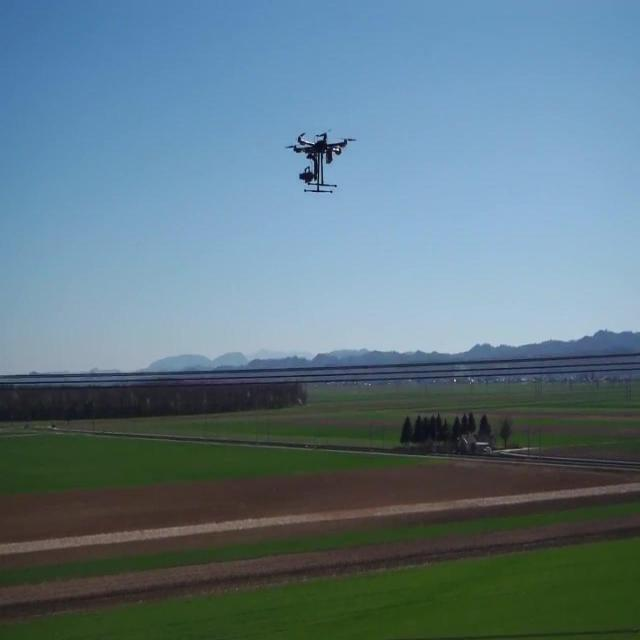drone: (285, 128, 358, 200)
